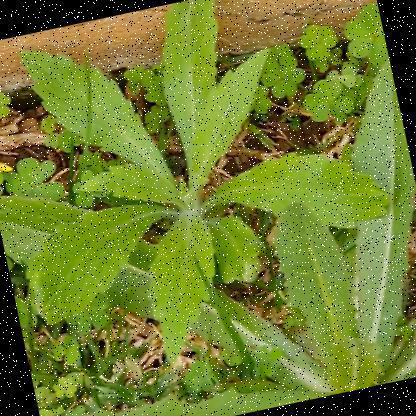Weeds: (0, 0, 414, 401), (0, 48, 415, 415)
